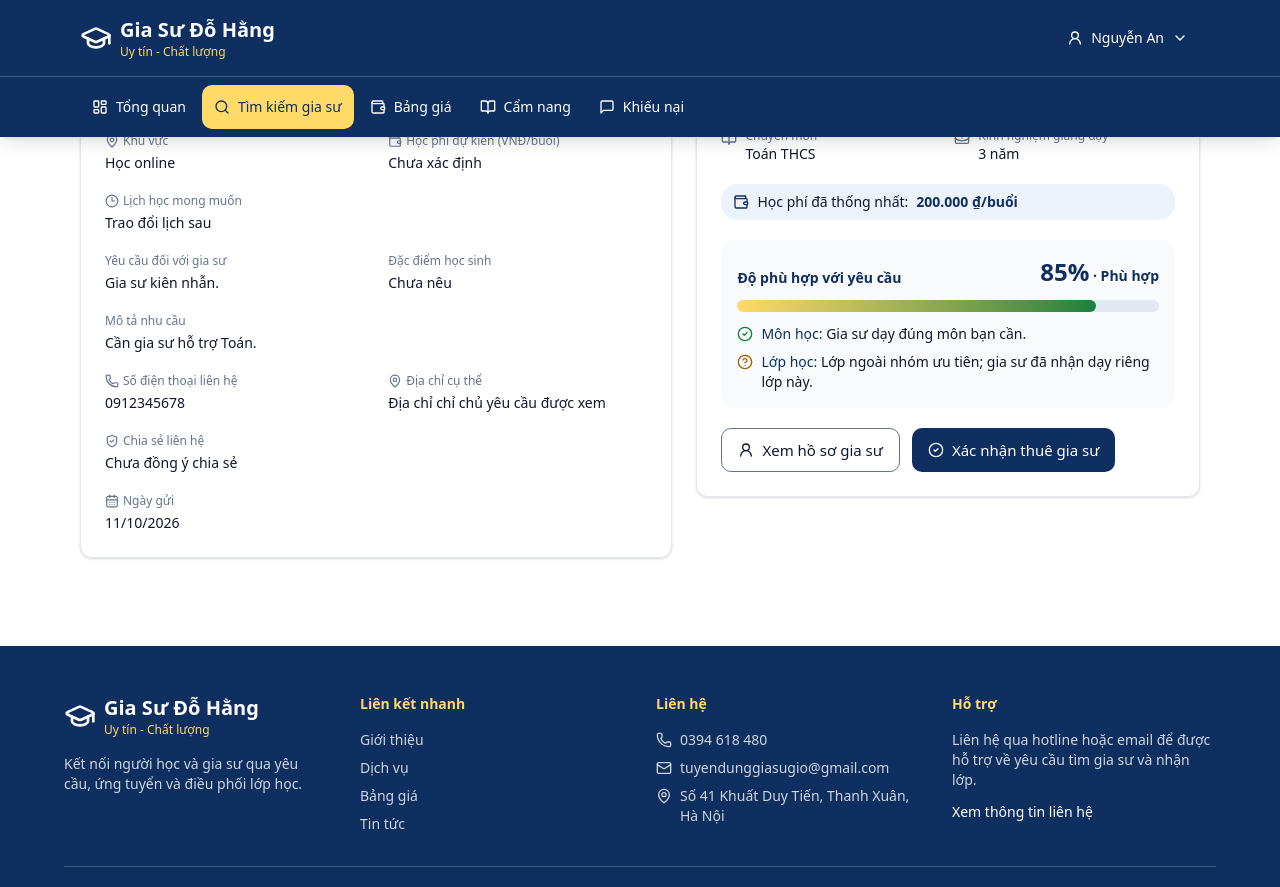
Test case: parent requests › shows the proposed tutor with fit and confirms hiring only after the dialog
(page scrolled)
Expected: the text "Trường Đại học Sư phạm Hà Nội" is shown, [978,76,1175,116]
Click the button "Xác nhận thuê gia sư": click(1014, 450) [912,428,1115,472]
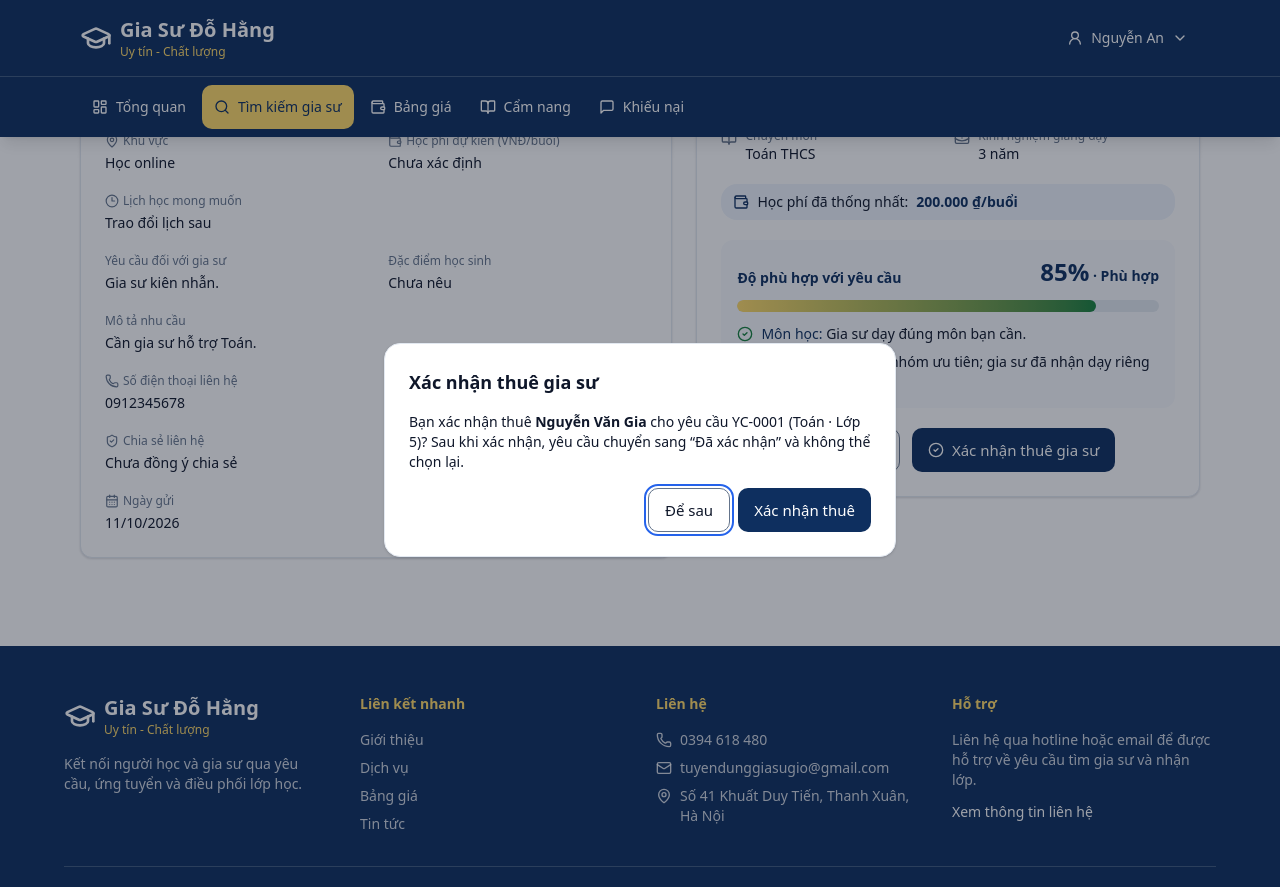
Click the button "Xác nhận thuê": click(805, 510) [738,488,871,532]
(page scrolled)
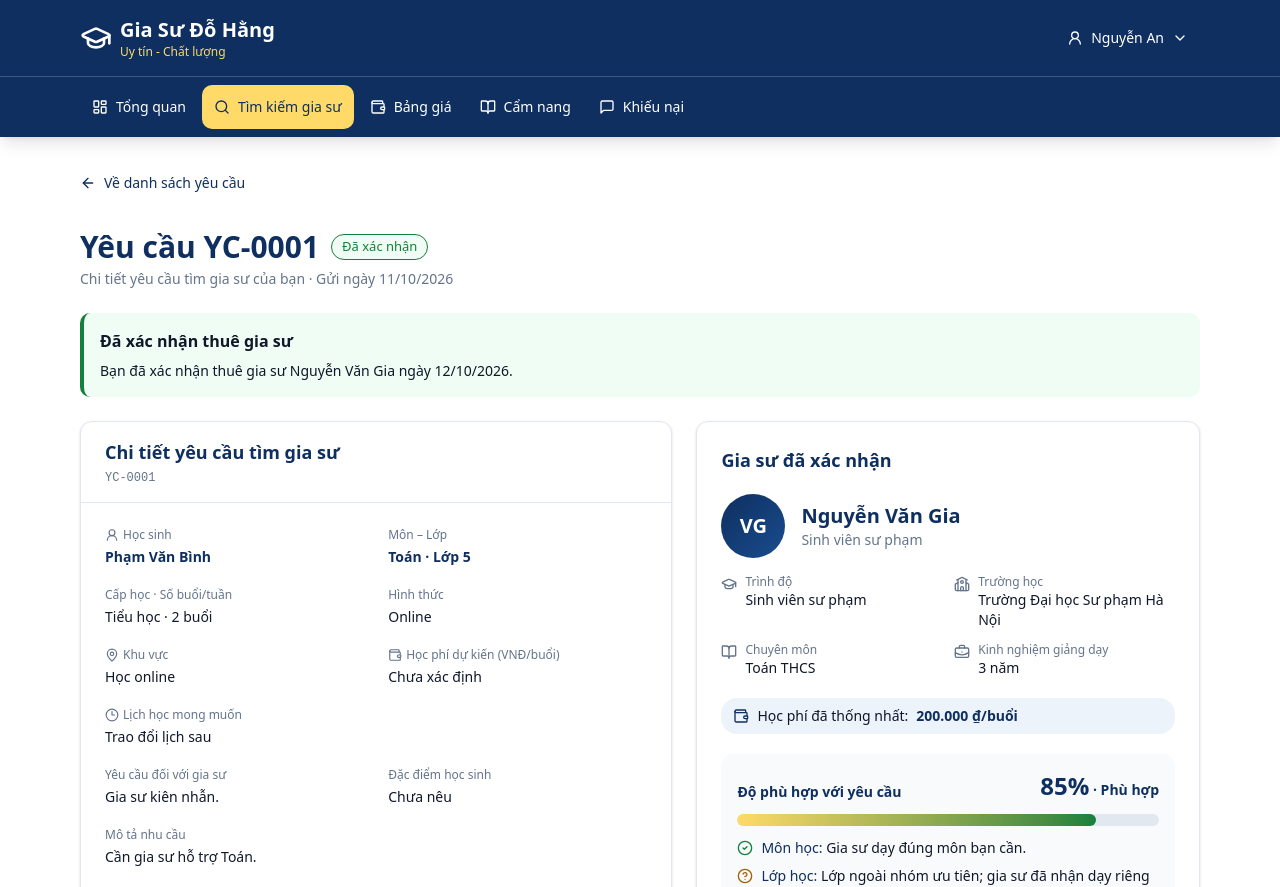
Result: the text "Đã xác nhận" is shown at [331,234,428,260]
